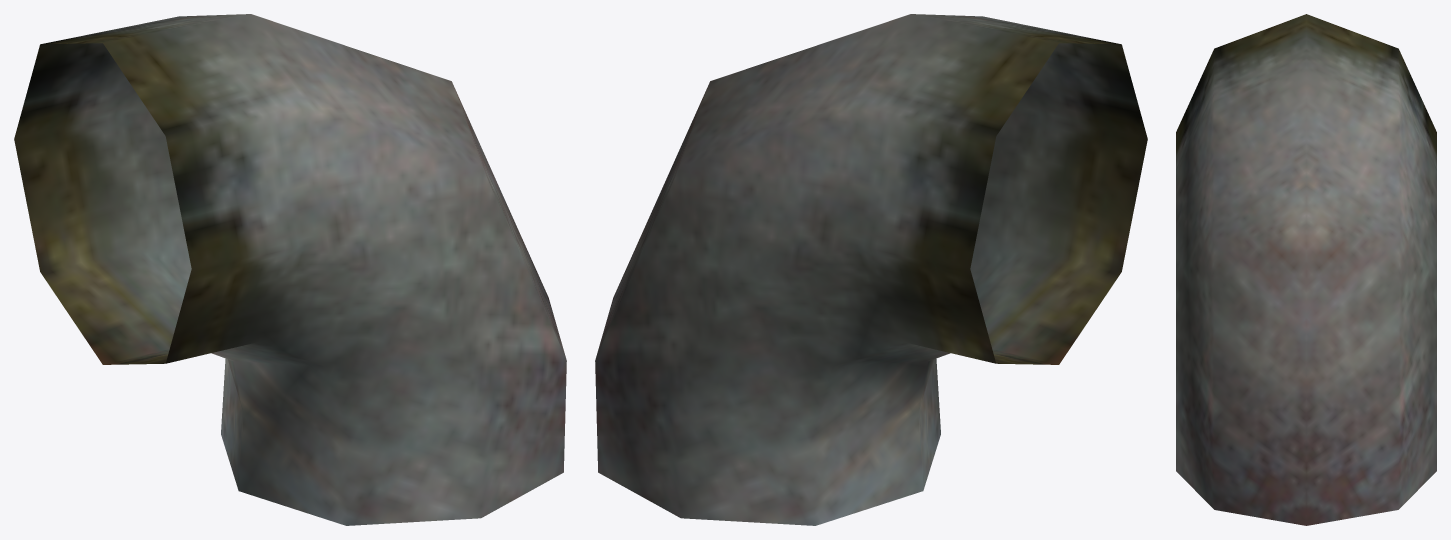
Rendered from pipe_joint.fbx.
3 views of the same model, side by side, from view 1: azimuth 30°, elevation 25°; view 2: azimuth 150°, elevation 25°; view 3: azimuth 270°, elevation 25° (orthographic). The views are drawn at different scales.
Parts seen in each view (by area): view 1: polySurface9; view 2: polySurface9; view 3: polySurface9.
Part boxes in pixels (x1,y1,x2,y2): polySurface9: [14, 14, 566, 525]; polySurface9: [595, 14, 1147, 525]; polySurface9: [1176, 14, 1436, 525].
Size of the model in its own units: 0.4531 by 0.4672 by 0.3125.
